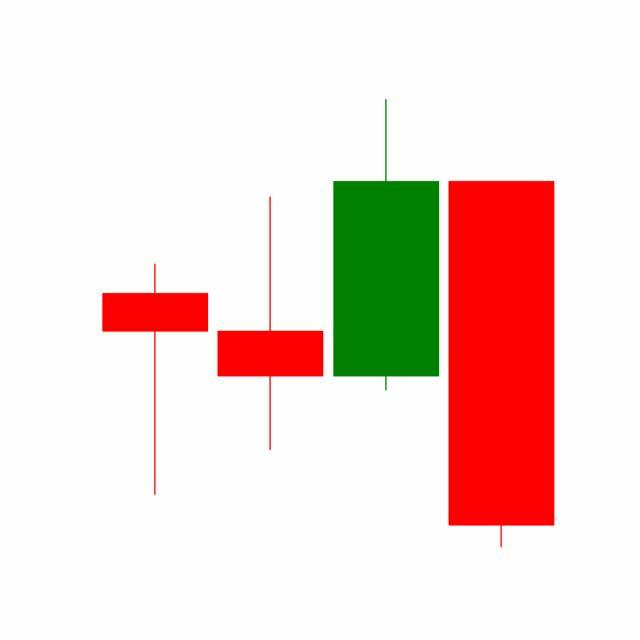Marubozu: (444, 178, 560, 552)
